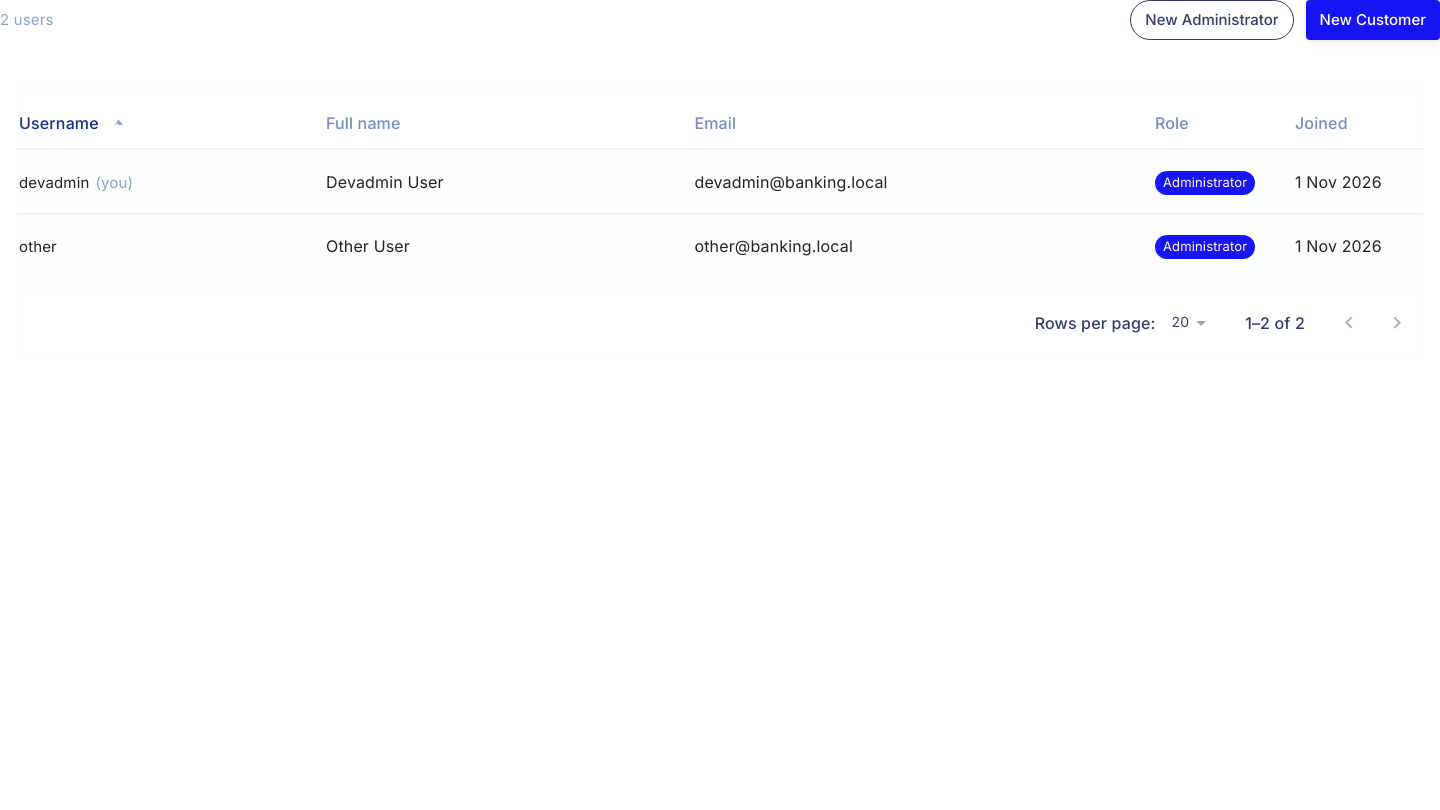
Test case: admin users page › shows the backend's reason when a role change is refused
Click the text "other": x=38, y=246 x1=19 y1=237 x2=57 y2=256
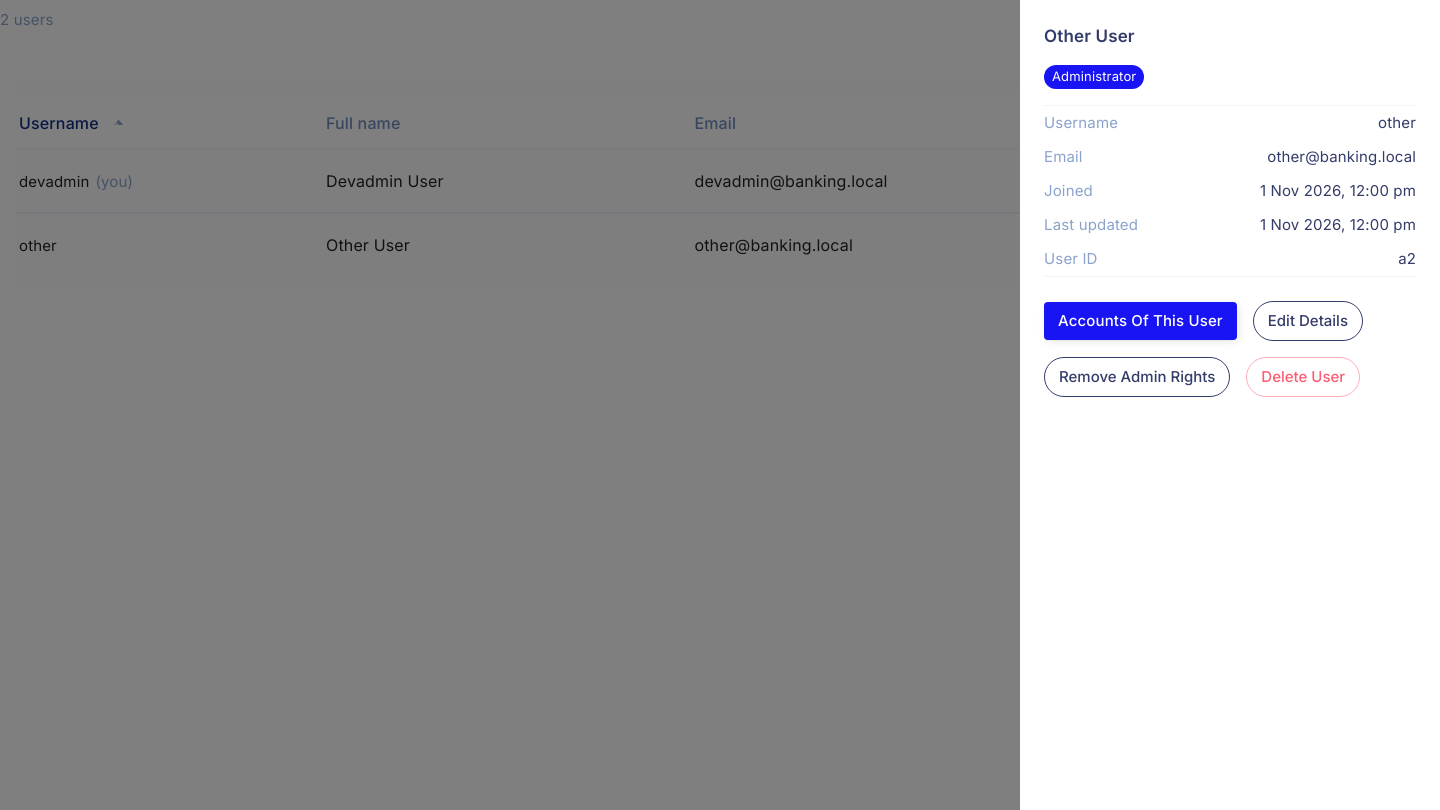
Click the button "Remove admin rights": x=1137, y=377 x1=1044 y1=357 x2=1230 y2=397
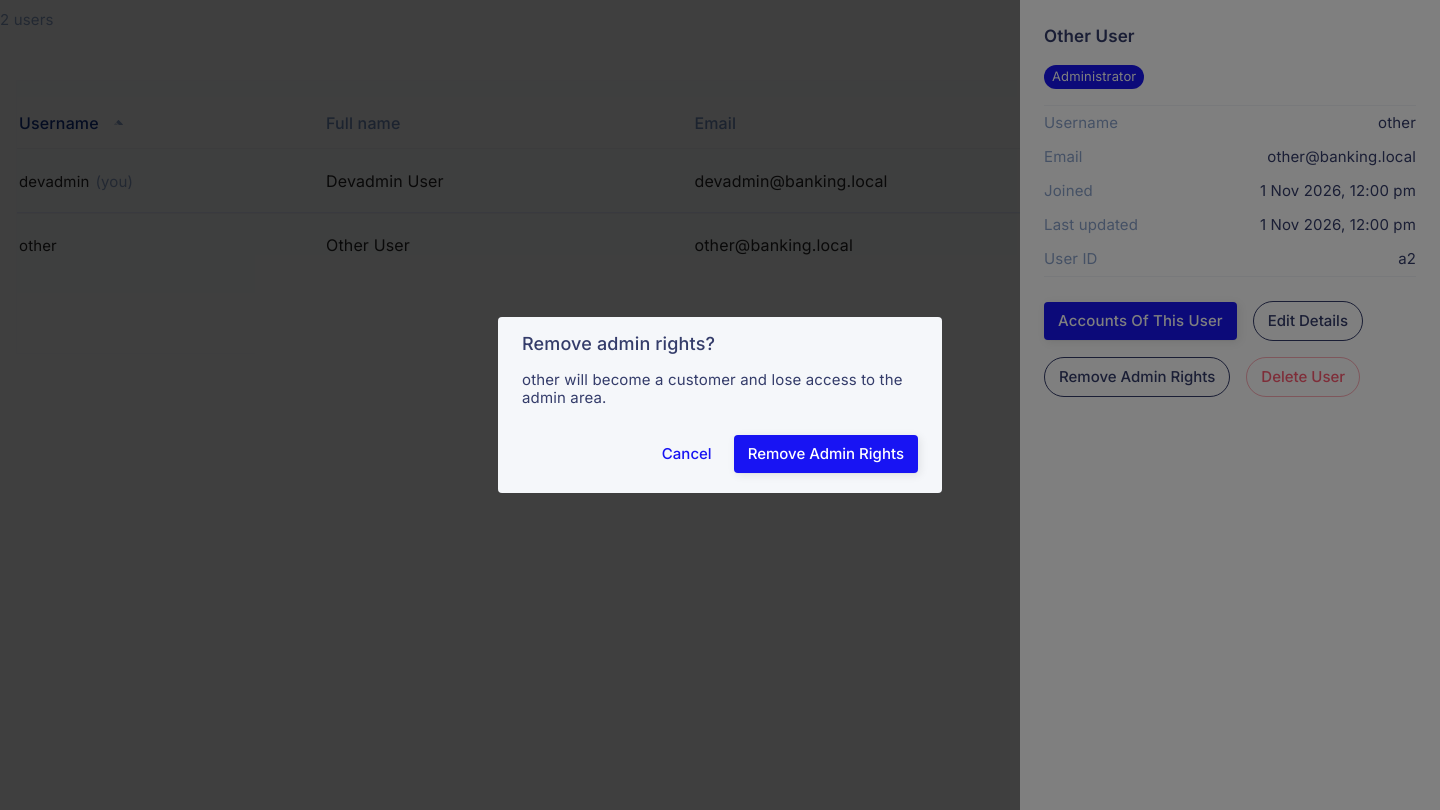
Click the button "Remove admin rights": x=826, y=454 x1=734 y1=435 x2=918 y2=473
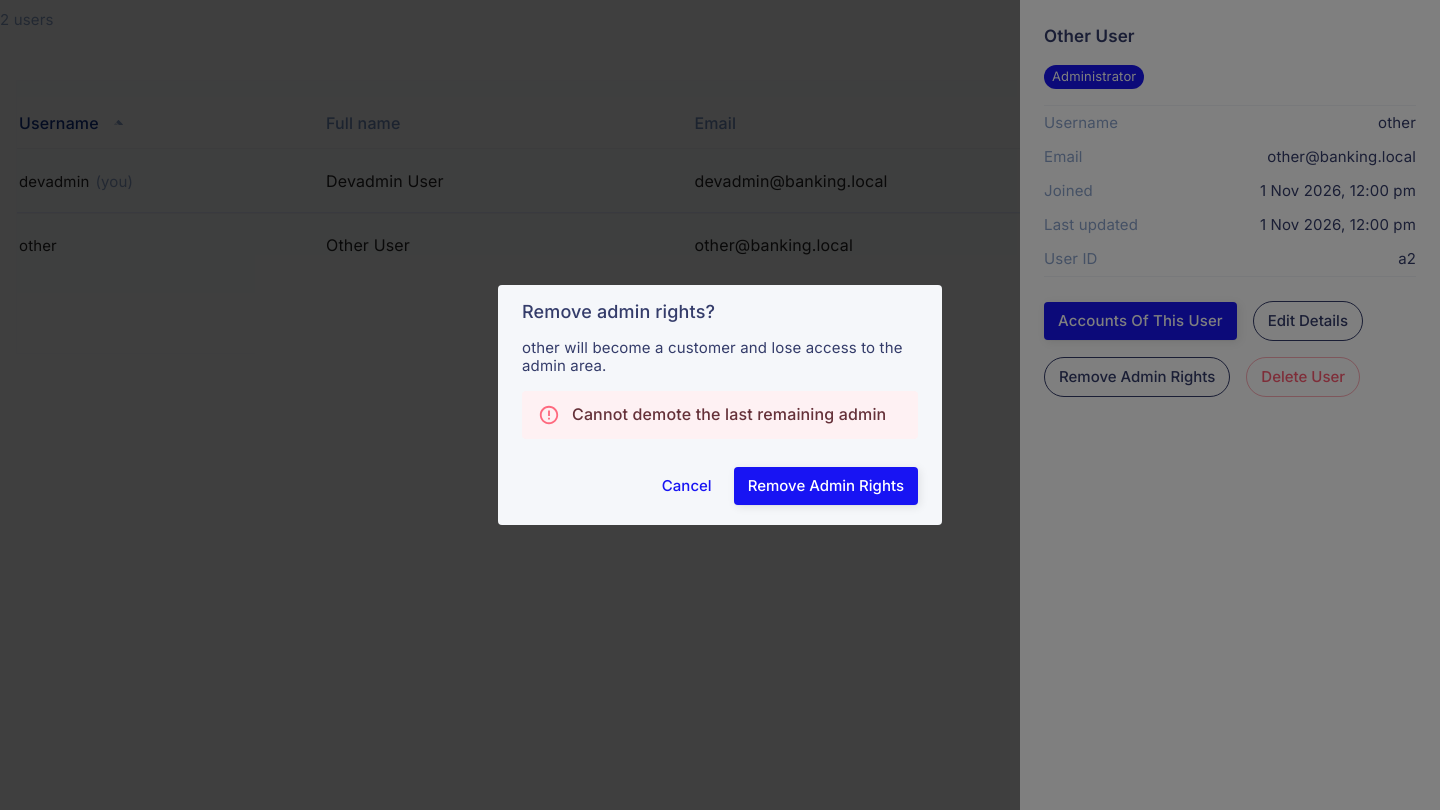
Now the text "Cannot demote the last remaining admin" is shown, box x1=572 y1=404 x2=886 y2=424
